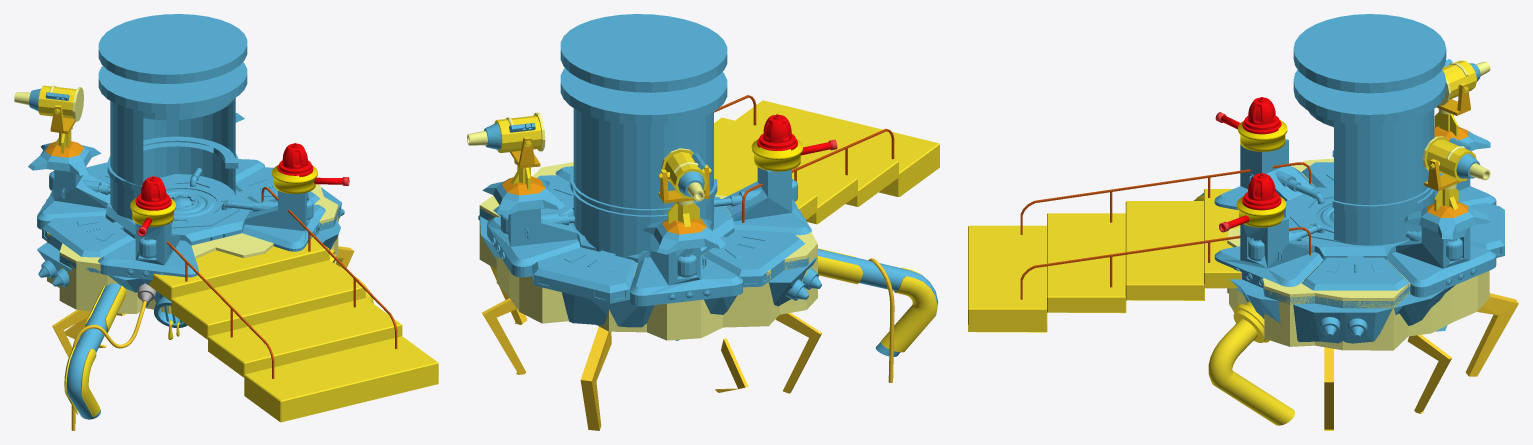
File: Spawner.fbx
3 renders of one model, left to right at view 1: azimuth 30°, elevation 25°; view 2: azimuth 150°, elevation 25°; view 3: azimuth 270°, elevation 25°, orthographic. The views are drawn at different scales.
Parts seen in each view (by area): view 1: Circle.006; view 2: Circle.006; view 3: Circle.006.
Boxes of the visible parts, x1=… form: Circle.006: x1=14, y1=14, x2=438, y2=430; Circle.006: x1=467, y1=14, x2=939, y2=430; Circle.006: x1=968, y1=14, x2=1518, y2=430.
Bounding box in the file's own units: 52.36 × 44.04 × 67.
